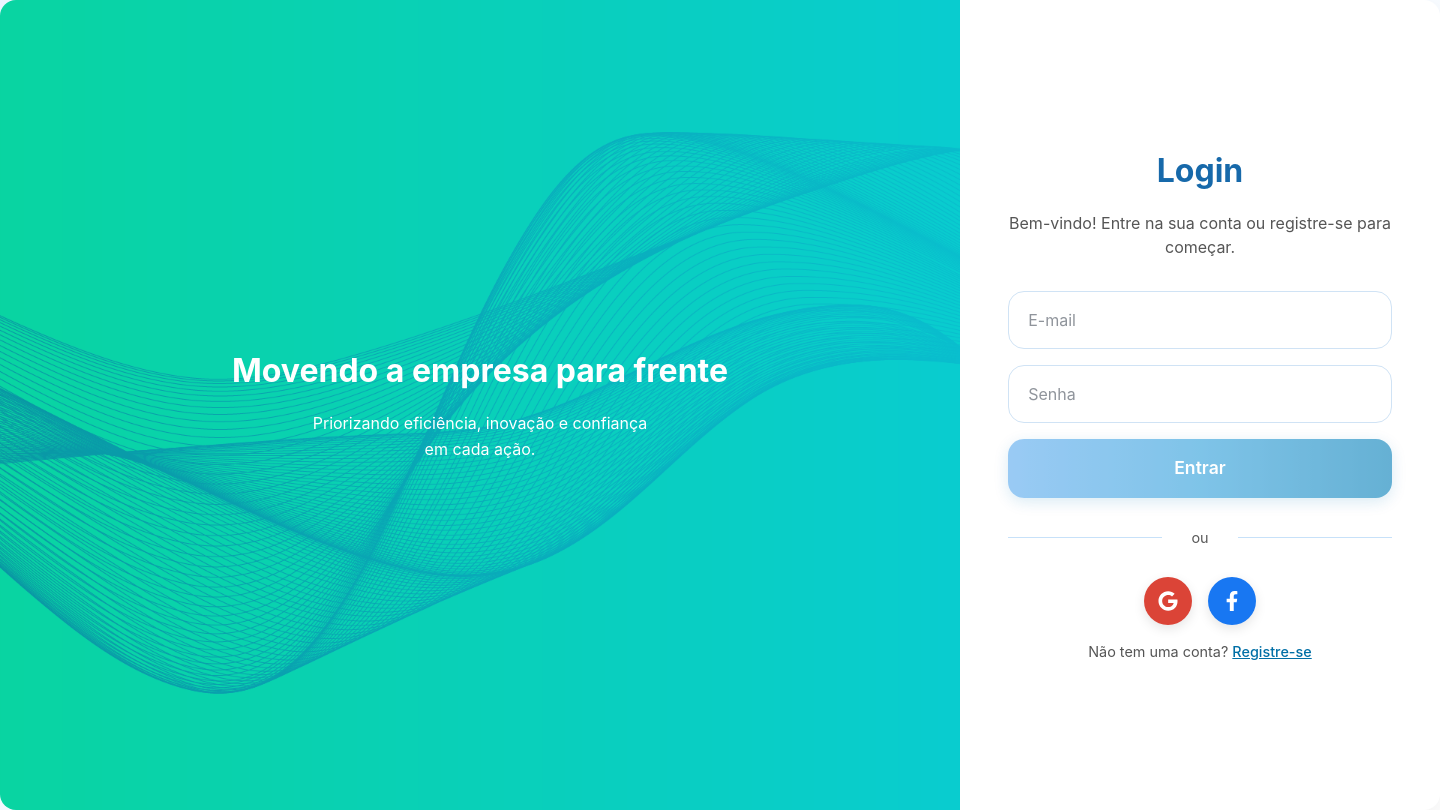
Test case: LoginPage › shows a safe error and does not route when authentication is rejected
Type "invalid@example.com" into the field labelled "E-mail". click: [1200, 320]
box: x1=1008 y1=291 x2=1392 y2=349
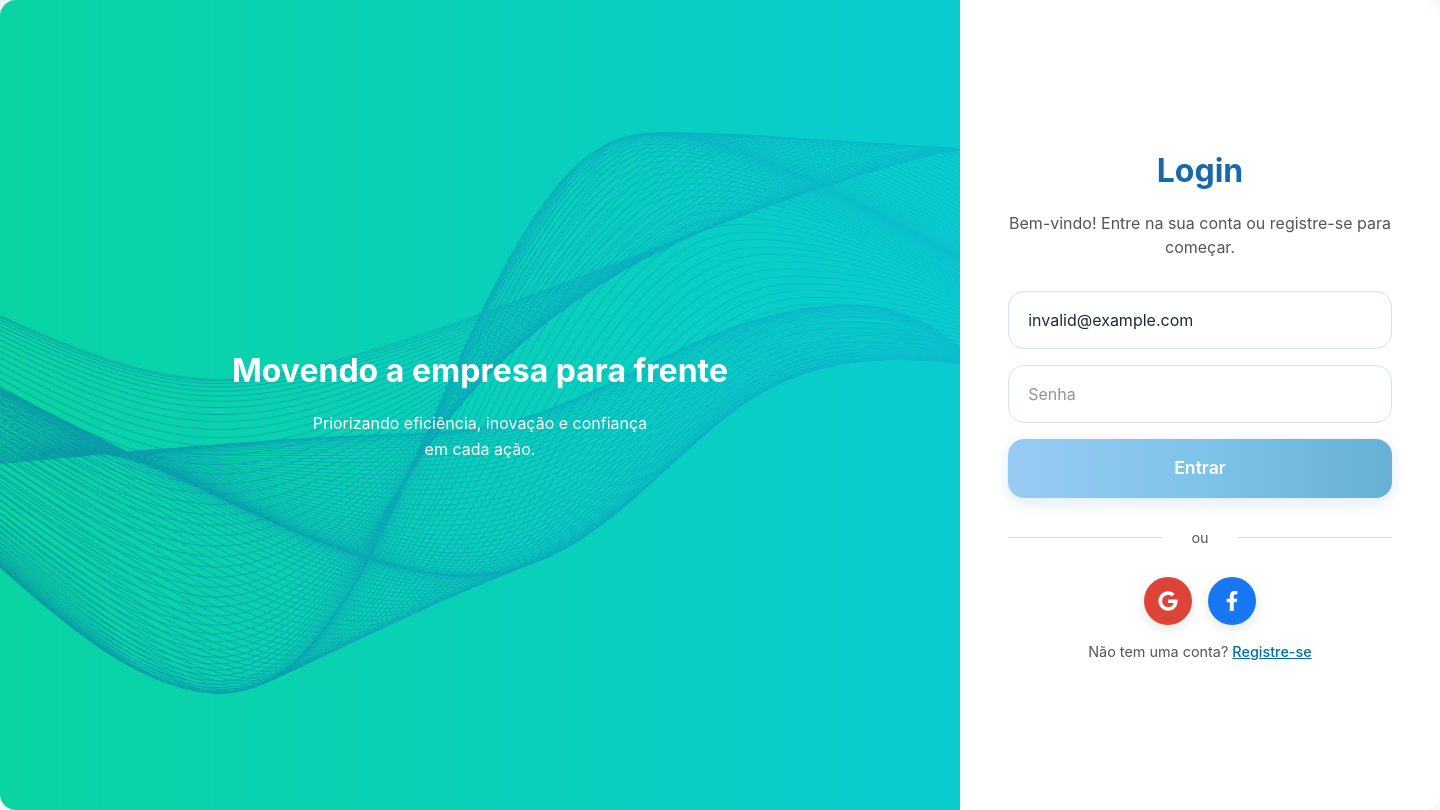
Type "invalid-password" into the password field labelled "Senha". click: [1200, 394]
box: x1=1008 y1=365 x2=1392 y2=423
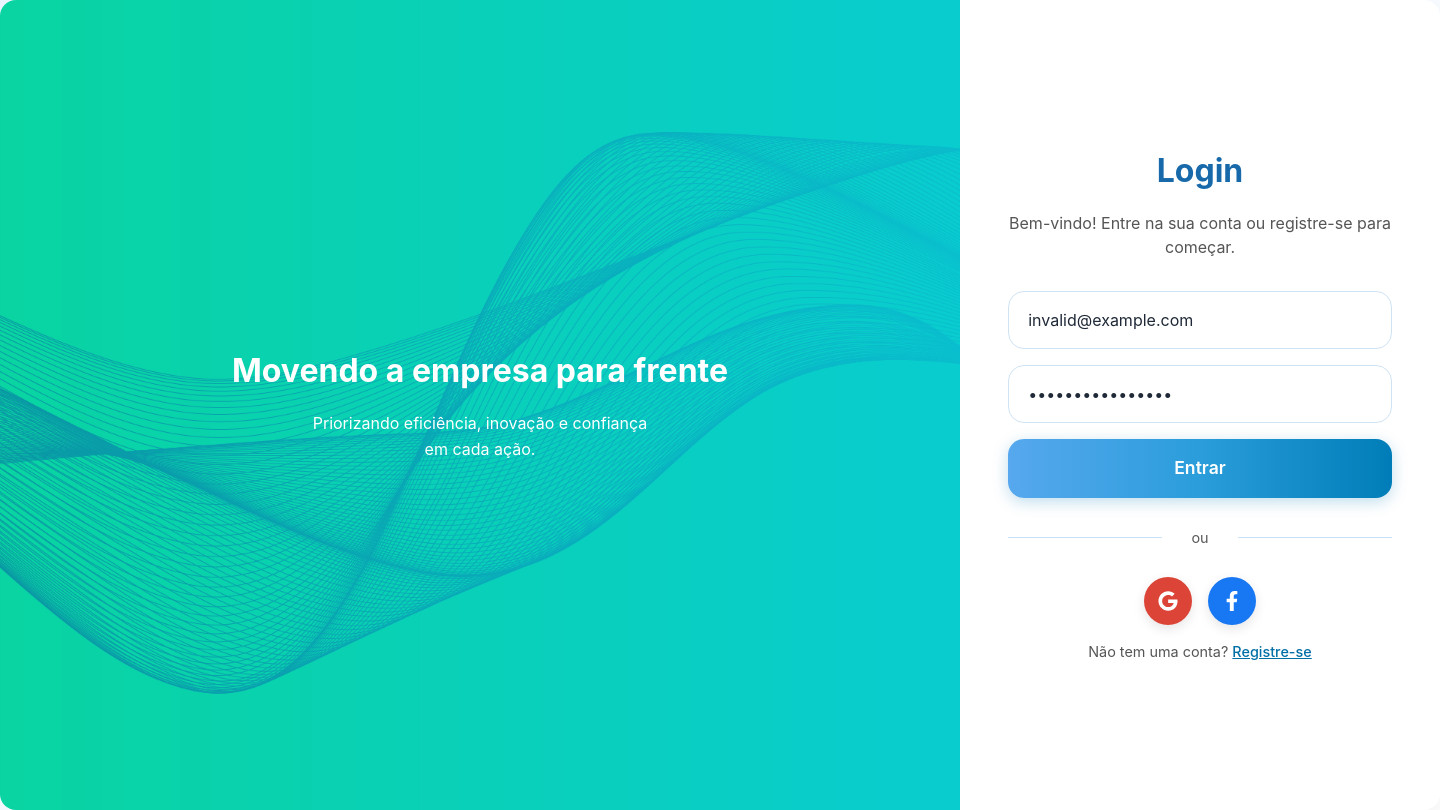
Click the button "Entrar". click: [1200, 469]
box: x1=1008 y1=439 x2=1392 y2=498
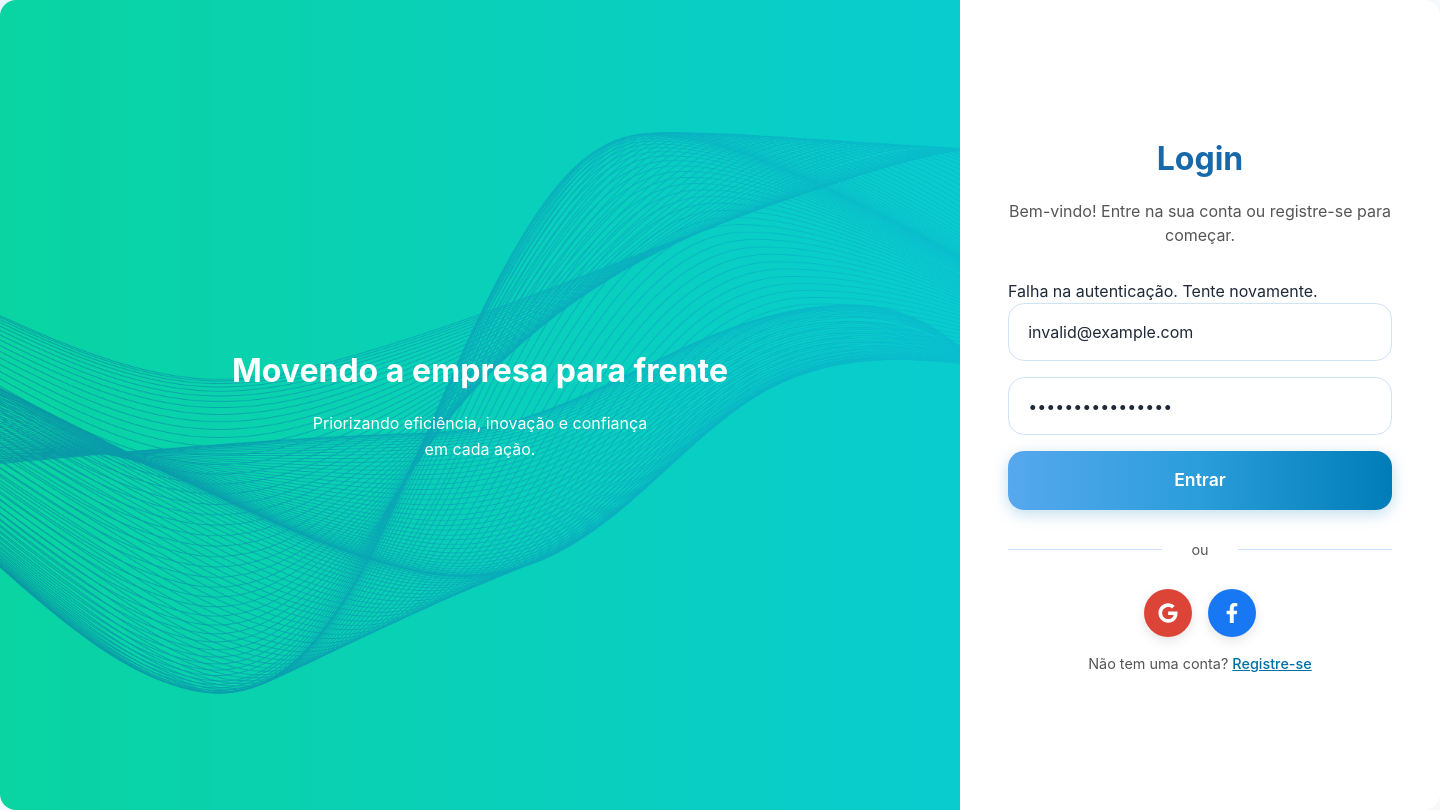
Result: the message reads "Falha na autenticação. Tente novamente." at x1=1008 y1=281 x2=1318 y2=301
